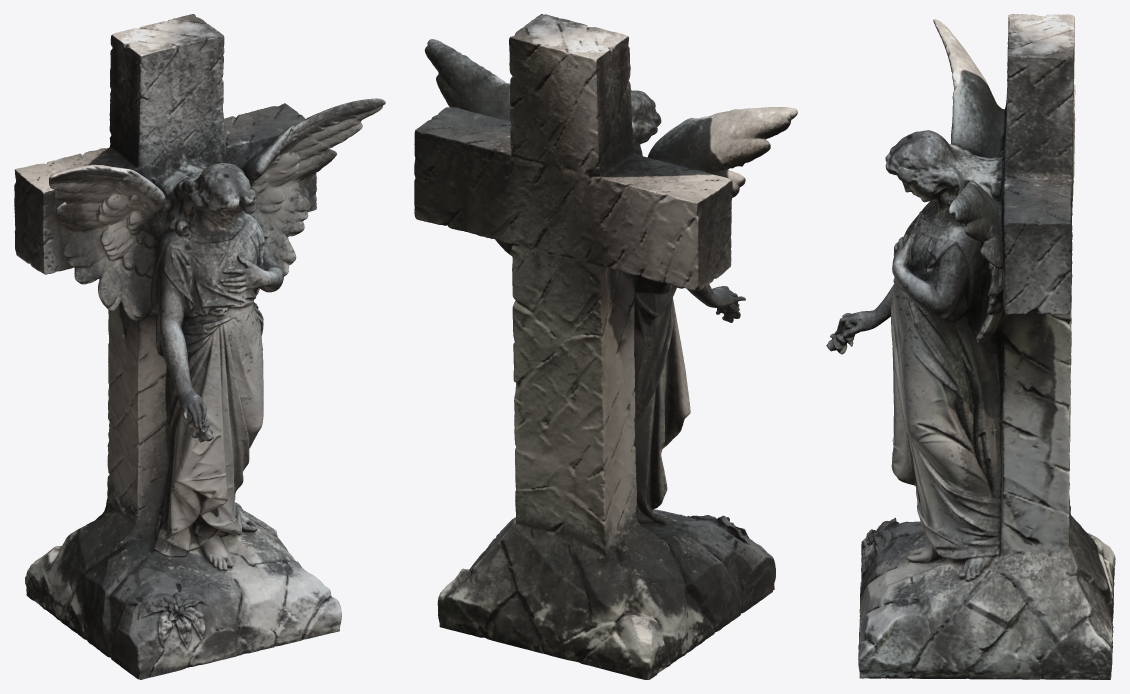
File: grabfigur.glb
3 renders of one model, left to right at view 1: azimuth 30°, elevation 25°; view 2: azimuth 150°, elevation 25°; view 3: azimuth 270°, elevation 25°, orthographic. The views are drawn at different scales.
Visible parts, largest first — view 1: Object_2, Object_3, Object_5, Object_4, Object_6, Object_7; view 2: Object_7, Object_4, Object_5, Object_2, Object_3, Object_6; view 3: Object_6, Object_2, Object_7, Object_4, Object_5, Object_3.
Part boxes in pixels (left/top/right/bottom): Object_2: left=25, top=39, right=341, bottom=679; Object_3: left=49, top=79, right=317, bottom=655; Object_5: left=14, top=37, right=323, bottom=540; Object_4: left=14, top=98, right=385, bottom=661; Object_6: left=15, top=103, right=342, bottom=679; Object_7: left=25, top=14, right=337, bottom=649; Object_7: left=414, top=14, right=730, bottom=678; Object_4: left=424, top=39, right=732, bottom=586; Object_5: left=414, top=37, right=760, bottom=507; Object_2: left=414, top=33, right=775, bottom=679; Object_3: left=479, top=72, right=797, bottom=555; Object_6: left=414, top=55, right=775, bottom=632; Object_6: left=852, top=161, right=1112, bottom=678; Object_2: left=858, top=17, right=1115, bottom=679; Object_7: left=858, top=14, right=1115, bottom=677; Object_4: left=859, top=87, right=1092, bottom=640; Object_5: left=891, top=62, right=1075, bottom=549; Object_3: left=826, top=19, right=1073, bottom=635.
Size of the model in its own units: 10.67 by 16.62 by 7.27.
2 materials, 1 textured.
